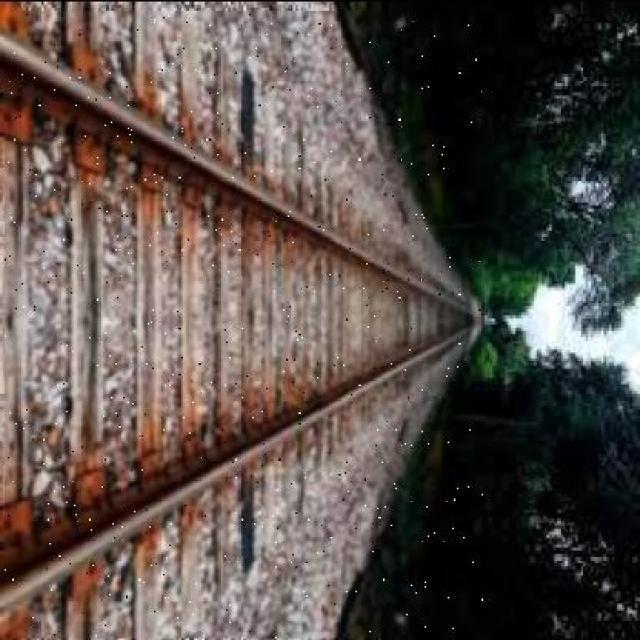rail: (5, 9, 485, 637)
